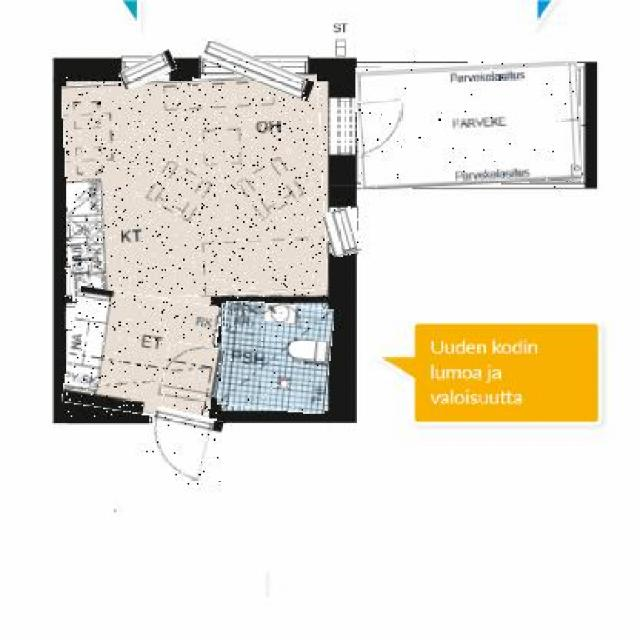door: (148, 409, 222, 485), (165, 345, 223, 397), (358, 98, 404, 156)
window: (202, 49, 316, 92), (325, 208, 360, 255), (120, 56, 175, 84)
zone: (65, 77, 326, 298), (357, 60, 581, 188), (65, 292, 217, 418), (218, 302, 332, 412)
